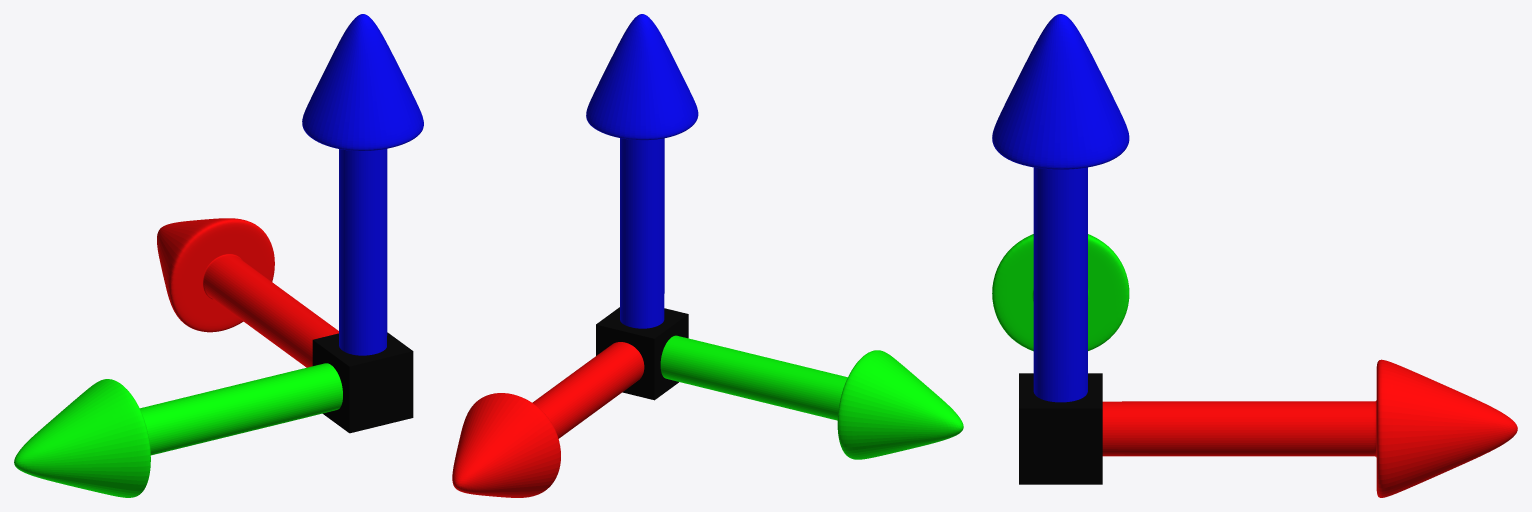
Rendered from assi.glb.
3 renders of one model, left to right at view 1: azimuth 30°, elevation 25°; view 2: azimuth 150°, elevation 25°; view 3: azimuth 270°, elevation 25°, orthographic. The views are drawn at different scales.
Parts seen in each view (by area): view 1: Cube.003; view 2: Cube.003; view 3: Cube.003.
Part boxes in pixels (x1,y1,x2,y2): Cube.003: (14, 14, 423, 497); Cube.003: (452, 14, 963, 497); Cube.003: (992, 14, 1517, 497).
Size of the model in its own units: 0.1605 by 0.1605 by 0.1605.
